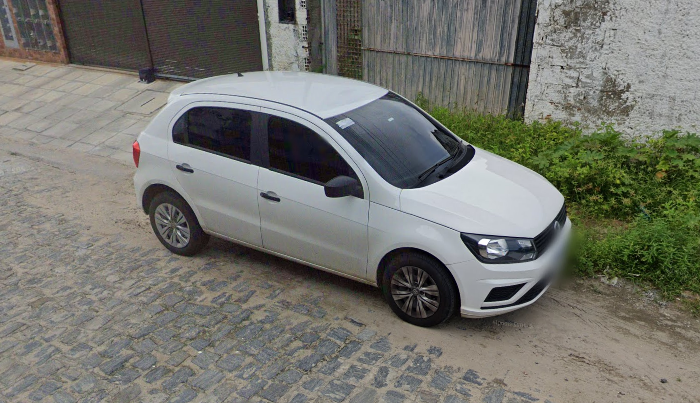car: (128, 65, 574, 329)
